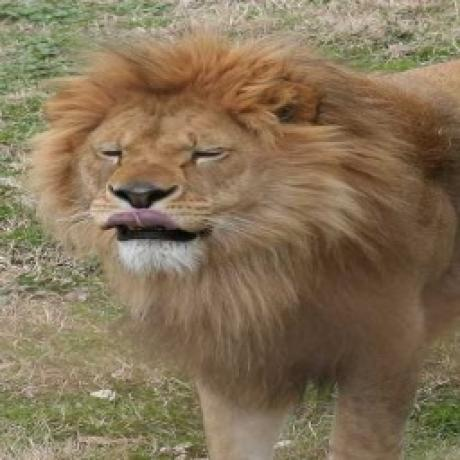Lion: (27, 18, 460, 460)
